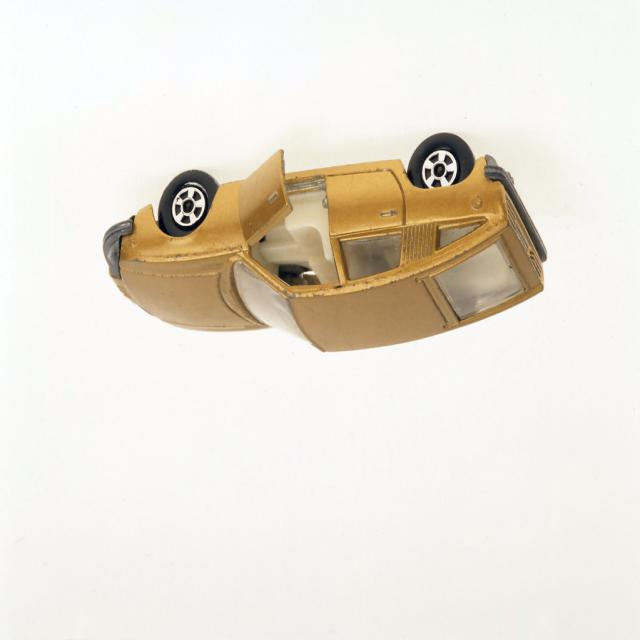Car: (102, 133, 547, 355)
